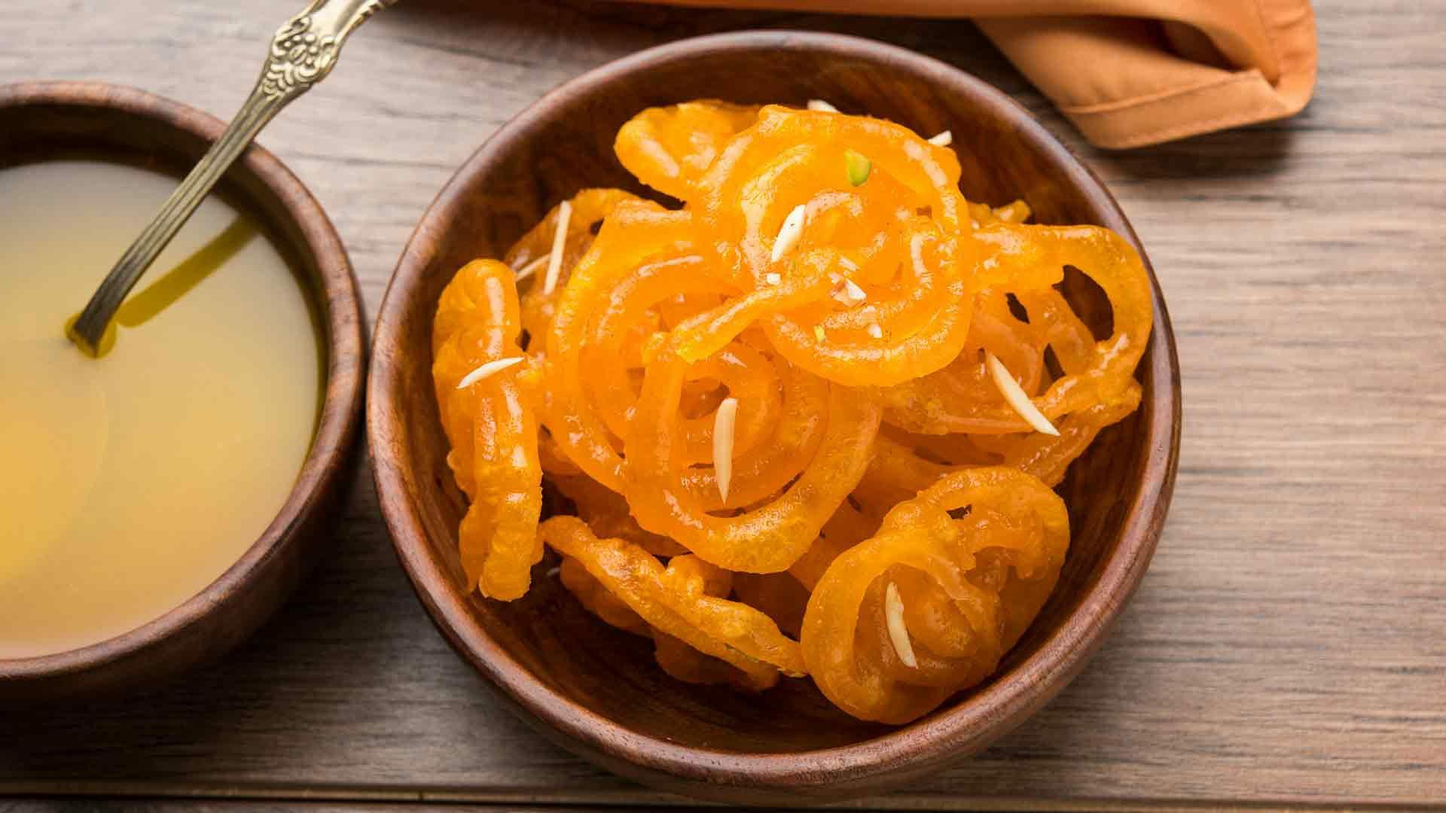Jalebi: (431, 94, 1161, 726)
